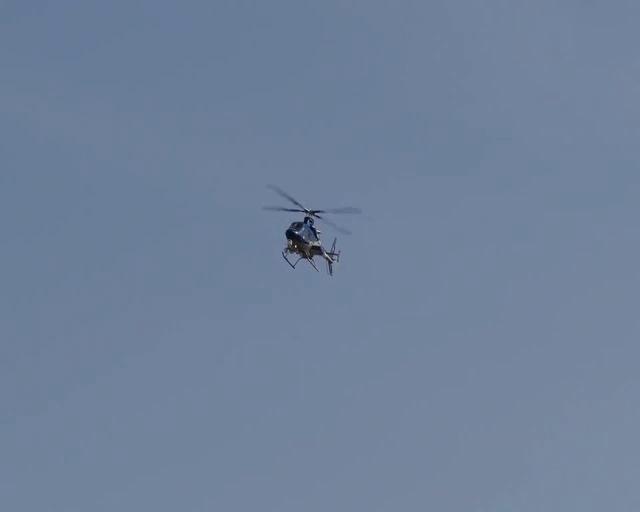HELICOPTER: (262, 181, 362, 275)
